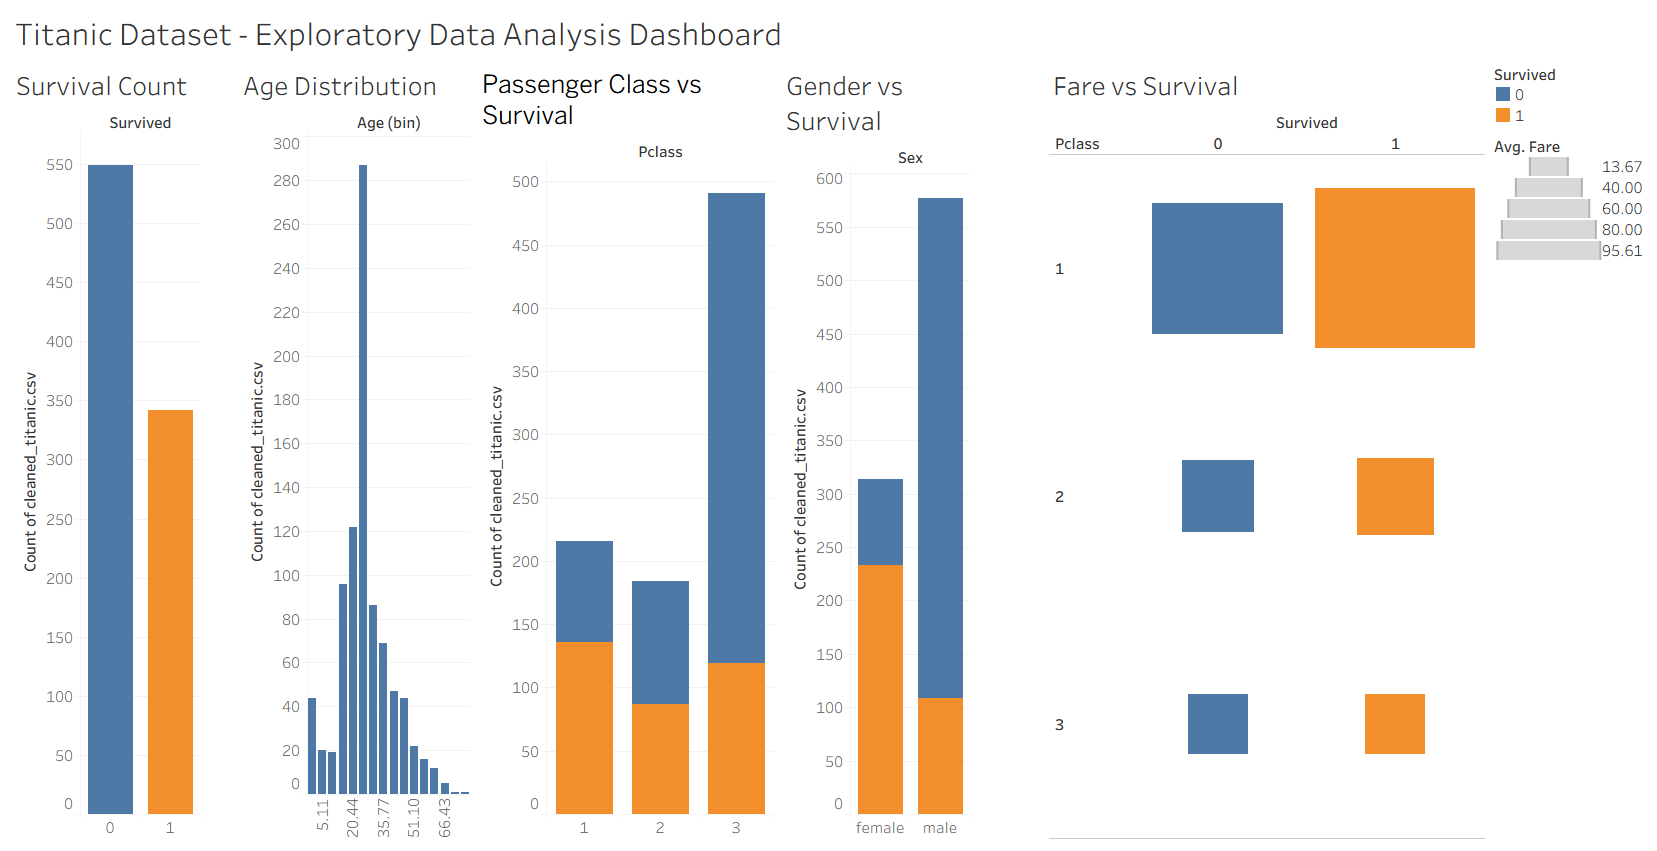

This screenshot's page, from the dashboard's own definition file:
{"tool":"tableau","page":{"name":"Dashboard 1","canvas":[1000,1000],"units":"permille","ordinal":0},"visuals":[{"type":"title","box":[4.8,9.4,990.3,58.8]},{"type":"worksheet","title":"Sheet 1","mark":"Bar","rows":["cleaned_titanic.csv_F7970C3D25654890A96A5FAC49925842"],"cols":["Survived"],"box":[4.8,68.2,137,922.5]},{"type":"worksheet","title":"Sheet 4","mark":"Automatic","rows":["cleaned_titanic.csv_F7970C3D25654890A96A5FAC49925842"],"cols":["Age (bin)"],"box":[141.8,68.2,144.2,922.5]},{"type":"worksheet","title":"Sheet 3","mark":"Automatic","rows":["cleaned_titanic.csv_F7970C3D25654890A96A5FAC49925842"],"cols":["Pclass"],"box":[286.1,68.2,183.5,922.5]},{"type":"worksheet","title":"Sheet 2","mark":"Bar","rows":["cleaned_titanic.csv_F7970C3D25654890A96A5FAC49925842"],"cols":["Sex"],"box":[469.5,68.2,161.2,922.5]},{"type":"worksheet","title":"Sheet 5","mark":"Automatic","rows":["Pclass"],"cols":["Survived"],"box":[630.7,68.2,267.9,922.5]},{"type":"legend","title":"Sheet 1","param":"[federated.0poi7h70vqcrpc18wkktw1c8whei].[none:Survived:ok]","box":[898.6,68.2,96.6,84.6]},{"type":"legend","title":"Sheet 5","param":"[federated.0poi7h70vqcrpc18wkktw1c8whei].[avg:Fare:qk]","box":[898.6,152.8,96.6,179.8]}]}

Visuals, with their boxes on the dashboard's canvas, which has no fixed pixel size, in thousandths of its width and height (x1, y1, x2, y2). These are canvas units, not pixel positions in the 1657x851 screenshot, which may show the page scaled, cropped or inside an application window:
title: l=5, t=9, r=995, b=68
"Sheet 1" worksheet (Bar marks): l=5, t=68, r=142, b=991
"Sheet 4" worksheet: l=142, t=68, r=286, b=991
"Sheet 3" worksheet: l=286, t=68, r=470, b=991
"Sheet 2" worksheet (Bar marks): l=470, t=68, r=631, b=991
"Sheet 5" worksheet: l=631, t=68, r=899, b=991
"Sheet 1" legend: l=899, t=68, r=995, b=153
"Sheet 5" legend: l=899, t=153, r=995, b=333
